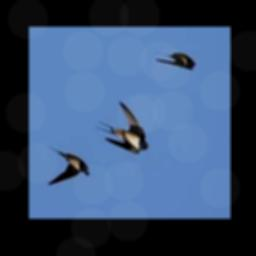Swallow: (95, 102, 148, 154), (47, 146, 88, 185), (154, 52, 195, 70)
